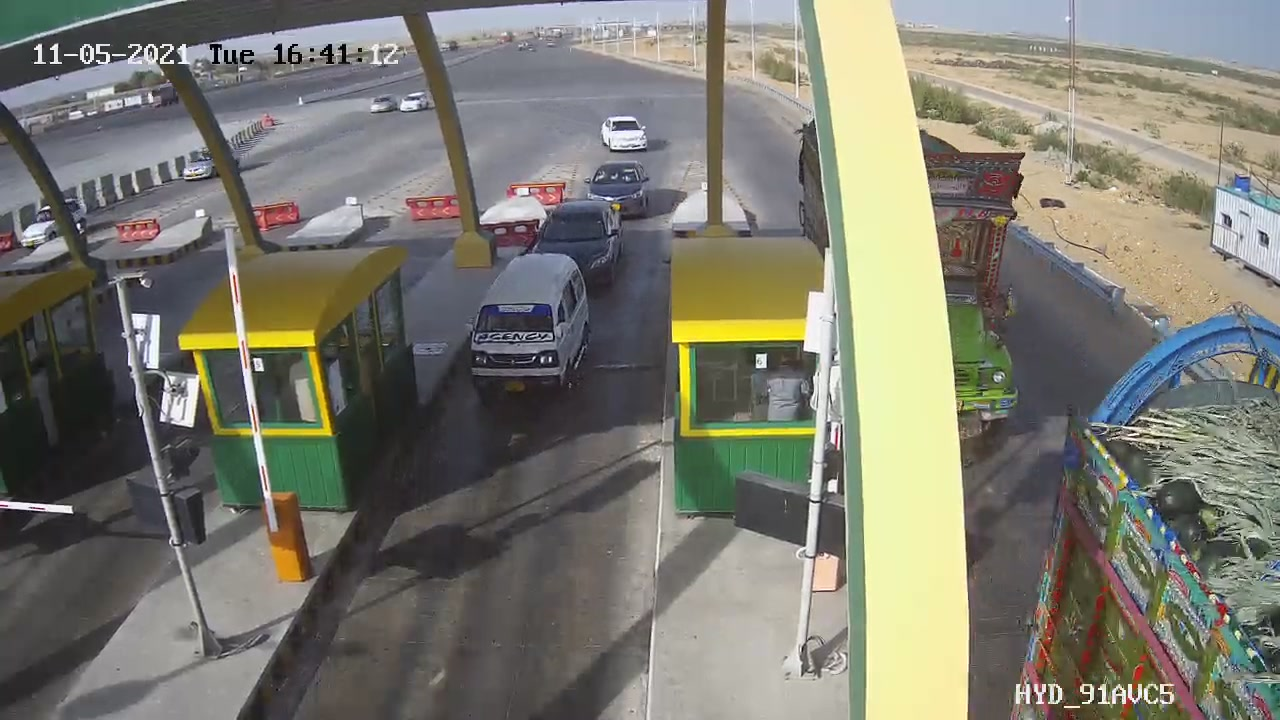F1: (453, 240, 613, 420)
